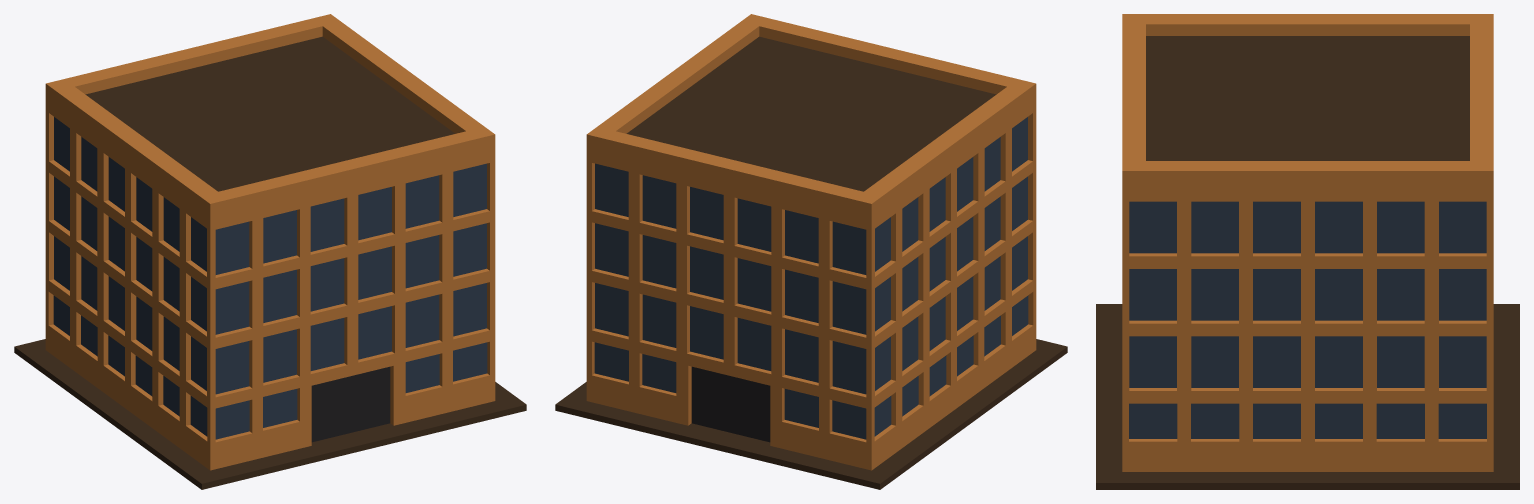
File: building1_stage1.fbx
3 renders of one model, left to right at view 1: azimuth 30°, elevation 25°; view 2: azimuth 150°, elevation 25°; view 3: azimuth 270°, elevation 25°, orthographic. The views are drawn at different scales.
Parts seen in each view (by area): view 1: Building1_Stage1; view 2: Building1_Stage1; view 3: Building1_Stage1.
Part boxes in pixels (<box>): Building1_Stage1: <box>14,14,526,489</box>; Building1_Stage1: <box>555,14,1067,489</box>; Building1_Stage1: <box>1096,14,1519,489</box>.
Size of the model in its own units: 593 by 475 by 593.
